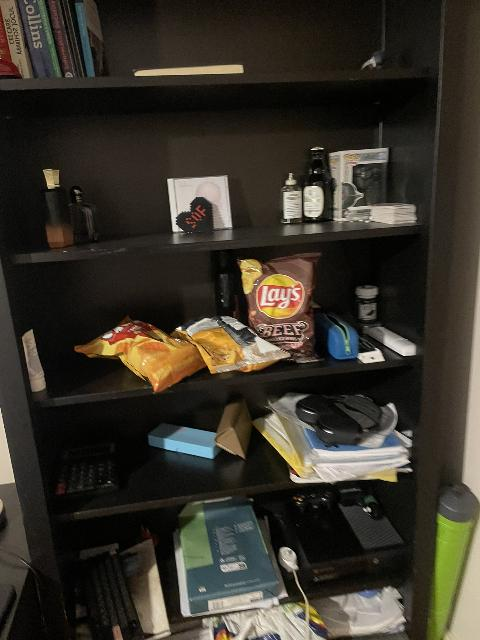Chio Cascaval 125g: (75, 316, 208, 394)
Chio Hula Hoops Cheese 70g: (174, 312, 290, 377)
Lays Beef Grilled Ribs 125g: (240, 252, 326, 366)
